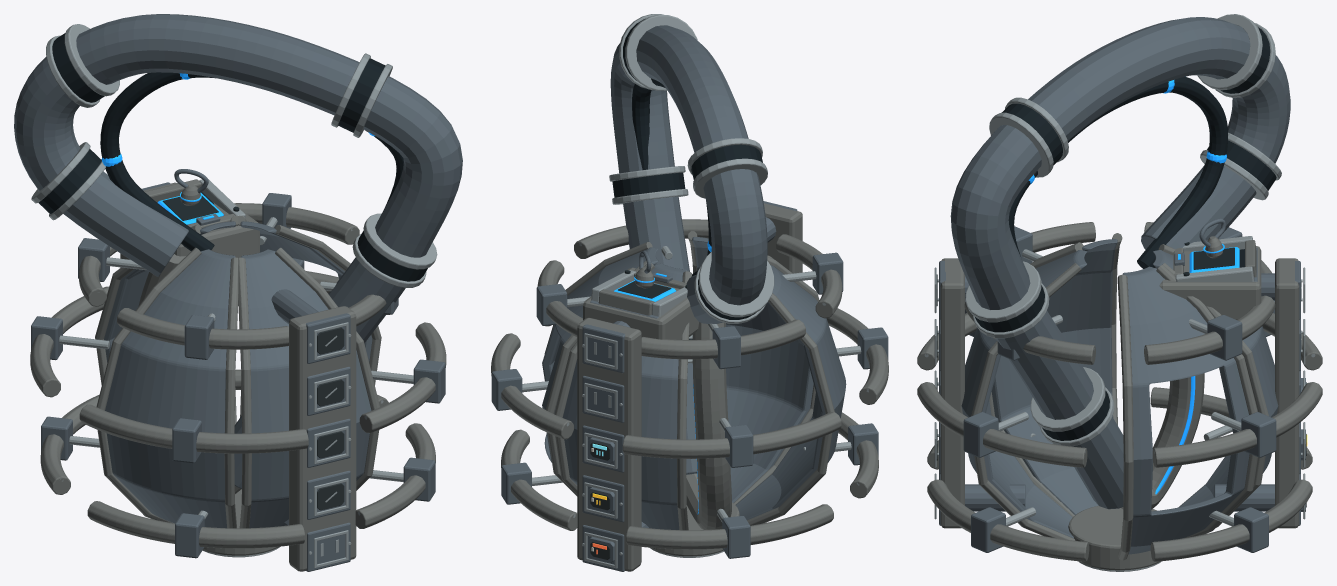
File: KleinAuraVessel.glb
3 views of the same model, side by side, from view 1: azimuth 30°, elevation 25°; view 2: azimuth 150°, elevation 25°; view 3: azimuth 270°, elevation 25° (orthographic). The views are drawn at different scales.
Parts seen in each view (by area): view 1: Klein | self threading return neck, Klein | sculpted vessel sector 3, Klein | sculpted vessel sector 4, Klein | bonded shell control pod 1, Klein | interrupted containment band 1 2, Klein | separated inner field liner, Klein | interrupted containment band 0 2, Klein | interrupted containment band 2 2, Klein | window precision rim 3 -1, Klein | interrupted containment band 1 3, Klein | interrupted containment band 0 3, Klein | window precision rim 3 1 (+46 smaller); view 2: Klein | self threading return neck, Klein | sculpted vessel sector 4, Klein | bonded shell control pod 0, Klein | sculpted vessel sector 1, Klein | sculpted vessel sector 3, Klein | internal closed circulation return, Klein | interrupted containment band 1 1, Klein | interrupted containment band 0 1, Klein | interrupted containment band 2 1, Klein | bonded shape dock shoulder, Klein | window precision rim 3 -1, Klein | sculpted vessel sector 0 (+40 smaller); view 3: Klein | self threading return neck, Klein | sculpted vessel sector 0, Klein | sculpted vessel sector 3, Klein | sculpted vessel sector 4, Klein | bonded shell control pod 0, Klein | bonded shell control pod 1, Klein | separated inner field liner, Klein | interrupted containment band 1 0, Klein | interrupted containment band 1 3, Klein | interrupted containment band 0 0, Klein | interrupted containment band 0 3, Klein | integrated lower return cap (+39 smaller).
Part boxes in pixels (bbox=[...]): Klein | self threading return neck: bbox=[14, 14, 462, 488]; Klein | sculpted vessel sector 3: bbox=[105, 249, 235, 528]; Klein | sculpted vessel sector 4: bbox=[241, 249, 371, 528]; Klein | bonded shell control pod 1: bbox=[289, 306, 356, 571]; Klein | interrupted containment band 1 2: bbox=[79, 404, 308, 453]; Klein | separated inner field liner: bbox=[100, 72, 403, 251]; Klein | interrupted containment band 0 2: bbox=[87, 501, 304, 548]; Klein | interrupted containment band 2 2: bbox=[117, 308, 288, 349]; Klein | window precision rim 3 -1: bbox=[96, 247, 201, 523]; Klein | interrupted containment band 1 3: bbox=[359, 322, 446, 433]; Klein | interrupted containment band 0 3: bbox=[355, 423, 435, 528]; Klein | window precision rim 3 1: bbox=[224, 257, 238, 528]; Klein | self threading return neck: bbox=[610, 25, 767, 474]; Klein | sculpted vessel sector 4: bbox=[692, 237, 813, 502]; Klein | bonded shell control pod 0: bbox=[577, 318, 641, 571]; Klein | sculpted vessel sector 1: bbox=[562, 263, 687, 529]; Klein | sculpted vessel sector 3: bbox=[735, 265, 846, 520]; Klein | internal closed circulation return: bbox=[686, 322, 731, 529]; Klein | interrupted containment band 1 1: bbox=[622, 412, 841, 458]; Klein | interrupted containment band 0 1: bbox=[626, 504, 833, 549]; Klein | interrupted containment band 2 1: bbox=[641, 319, 805, 359]; Klein | bonded shape dock shoulder: bbox=[583, 267, 698, 339]; Klein | window precision rim 3 -1: bbox=[747, 293, 834, 525]; Klein | sculpted vessel sector 0: bbox=[542, 247, 658, 462]; Klein | self threading return neck: bbox=[950, 17, 1290, 509]; Klein | sculpted vessel sector 0: bbox=[1122, 266, 1249, 554]; Klein | sculpted vessel sector 3: bbox=[991, 239, 1117, 514]; Klein | sculpted vessel sector 4: bbox=[961, 250, 1086, 538]; Klein | bonded shell control pod 0: bbox=[1275, 258, 1299, 528]; Klein | bonded shell control pod 1: bbox=[940, 258, 964, 528]; Klein | separated inner field liner: bbox=[1008, 76, 1227, 268]; Klein | interrupted containment band 1 0: bbox=[1152, 382, 1322, 467]; Klein | interrupted containment band 1 3: bbox=[917, 382, 1087, 467]; Klein | interrupted containment band 0 0: bbox=[1150, 479, 1312, 561]; Klein | interrupted containment band 0 3: bbox=[927, 479, 1089, 561]; Klein | integrated lower return cap: bbox=[1068, 505, 1160, 570].
Size of the model in its own units: 0.2354 by 0.3256 by 0.2354.
